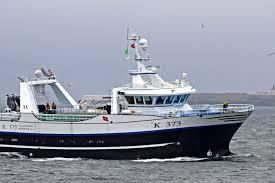Ship: (1, 34, 255, 160)
